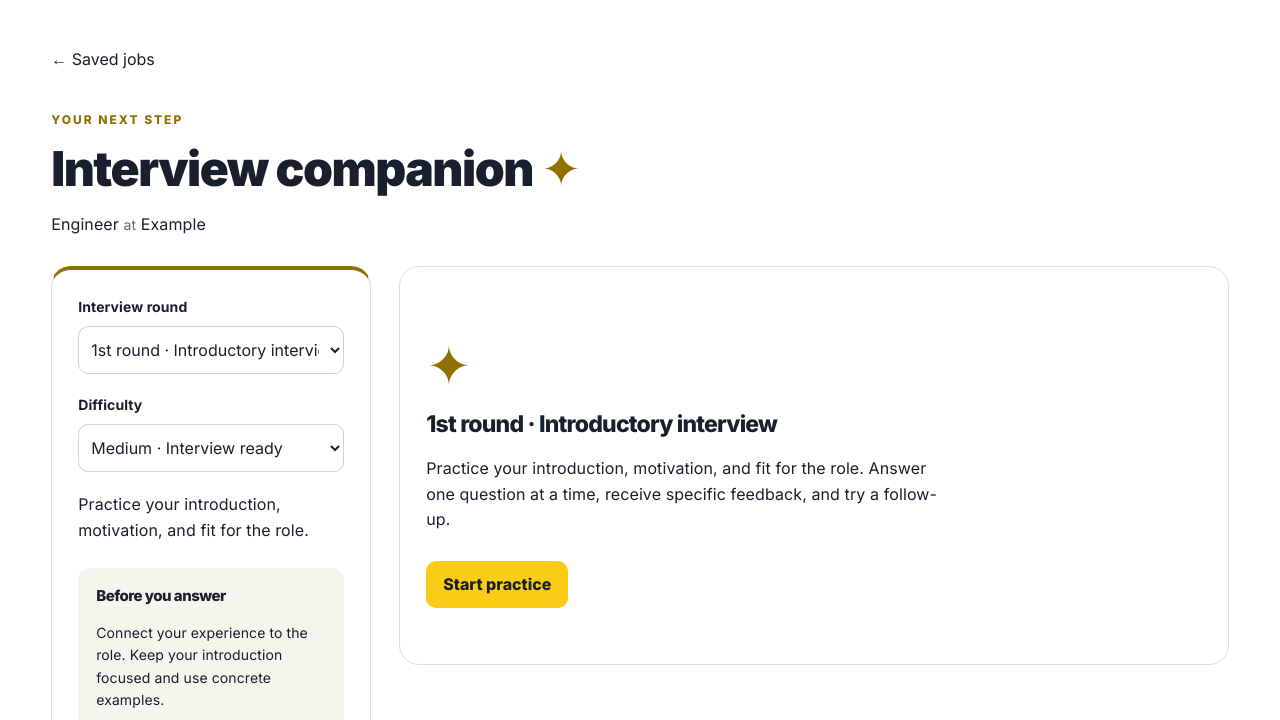
Test: interview companion › sends job context and answers, then waits for Next before showing the follow-up
Click the button "Start practice": (497, 585) [426,561,568,608]
(page scrolled)
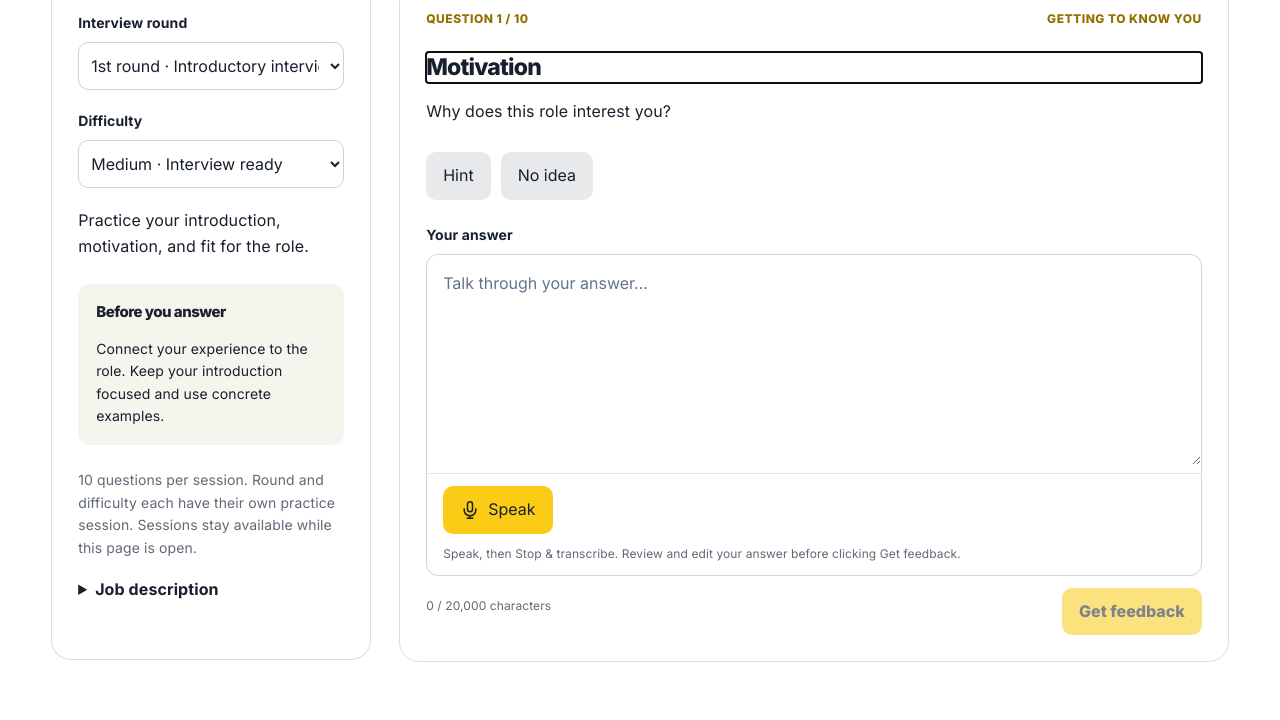
Now the text "Why does this role interest you?" is shown, box [426,101,671,121]
In the text box labelled "Your answer": (814, 360) [427,255,1201,465], type "I love building useful tools"
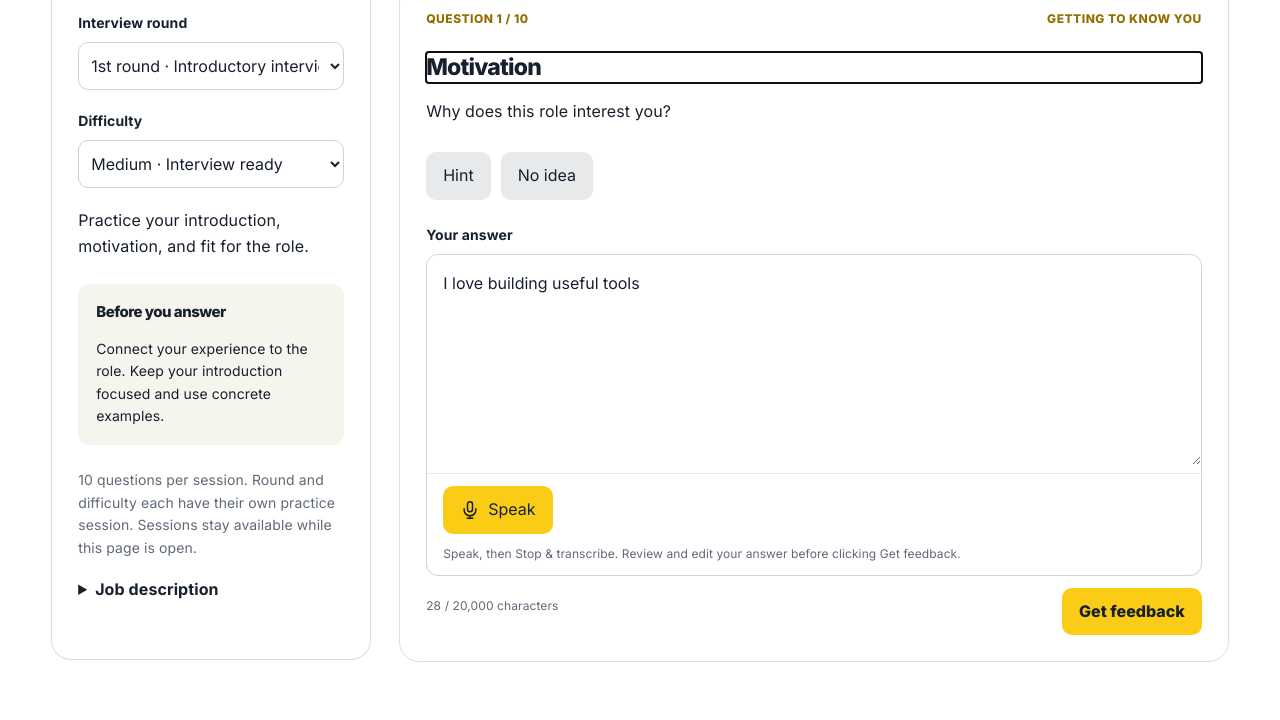
Click the button "Get feedback": (1132, 612) [1062,588,1202,635]
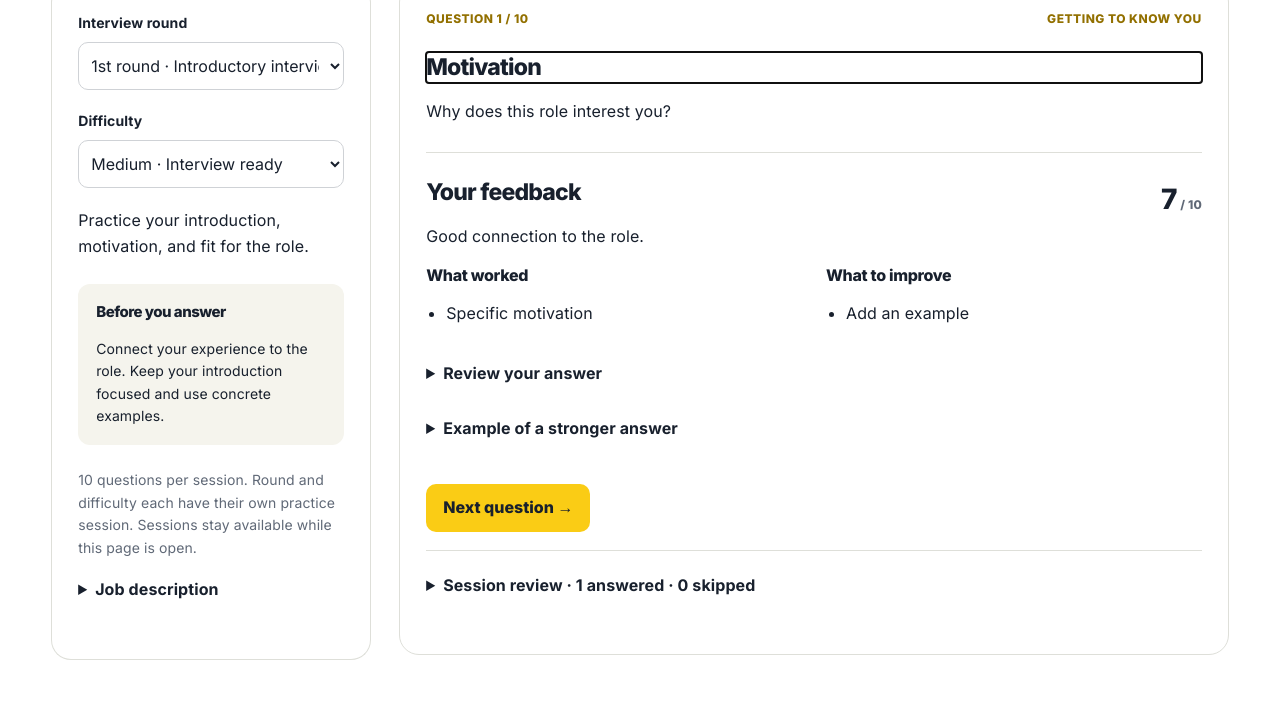
Expected: the text "Tell me about a relevant project" is not shown
Now the heading "Your feedback" is shown, box [426,177,581,208]
Click the button "Next question →": (508, 508) [426,484,590,532]
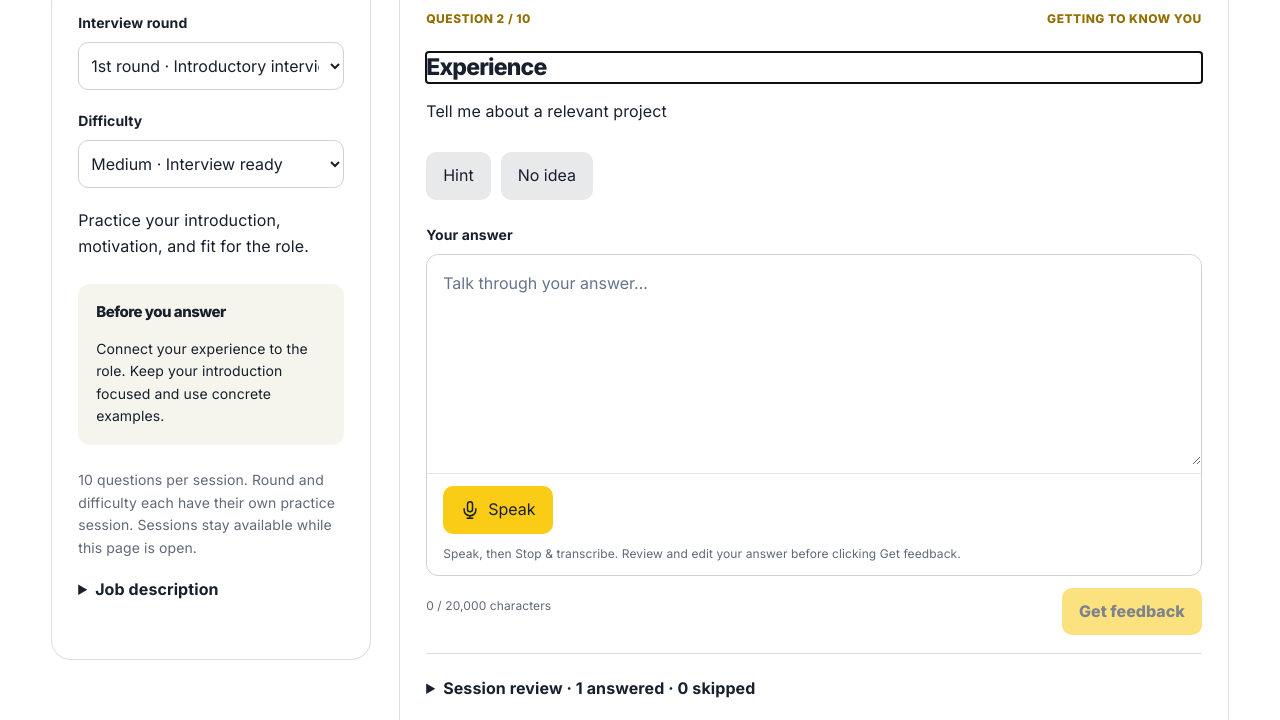
Now the text "Tell me about a relevant project" is shown, box [426,101,667,121]
In the text box labelled "Your answer": (814, 360) [427,255,1201,465], type "My project"
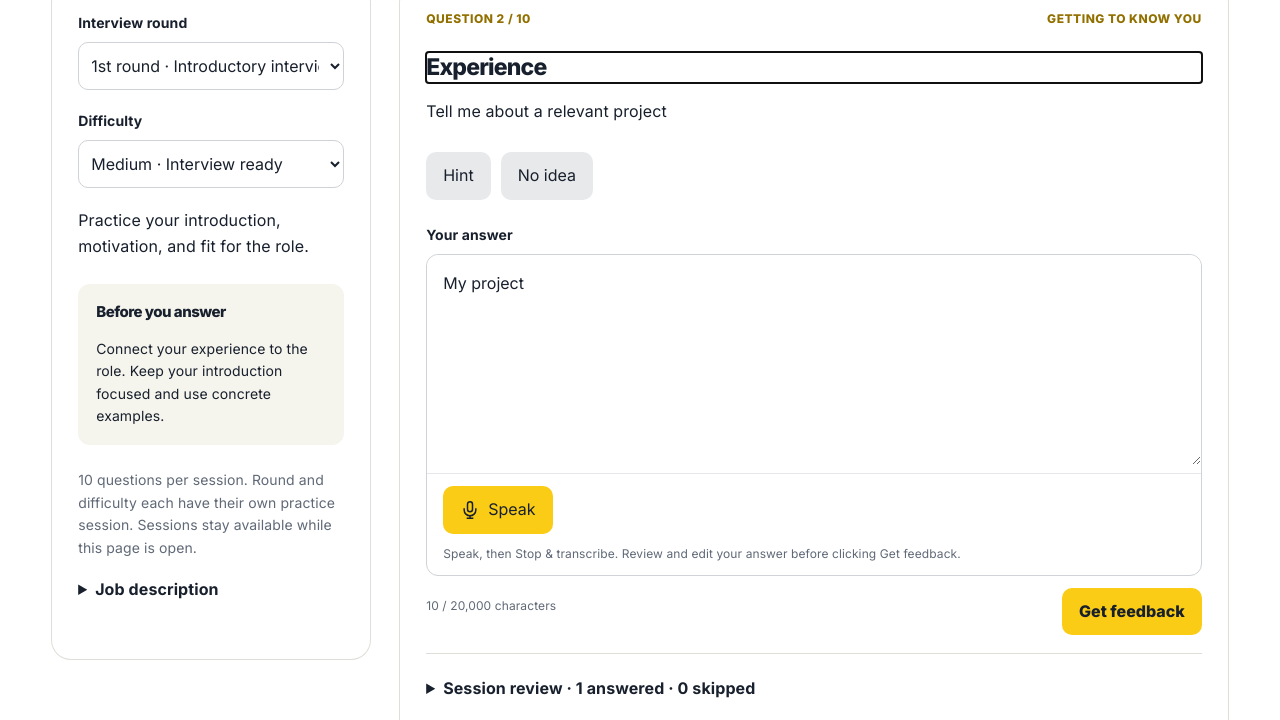
Click the button "Get feedback": (1132, 612) [1062,588,1202,635]
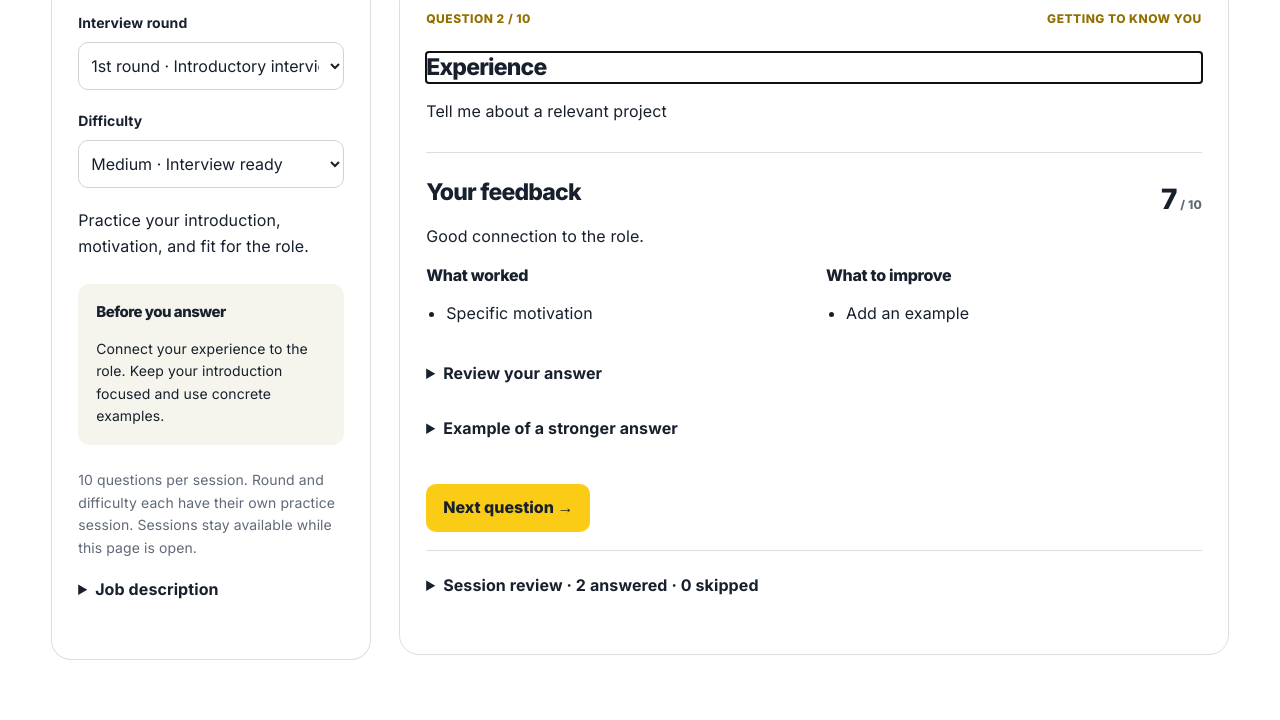
Now the heading "Your feedback" is shown, box [426,177,581,208]
